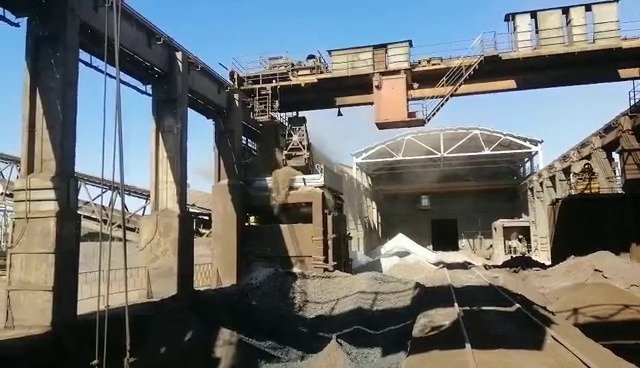dust: (265, 118, 466, 189)
grab: (278, 114, 318, 172)
